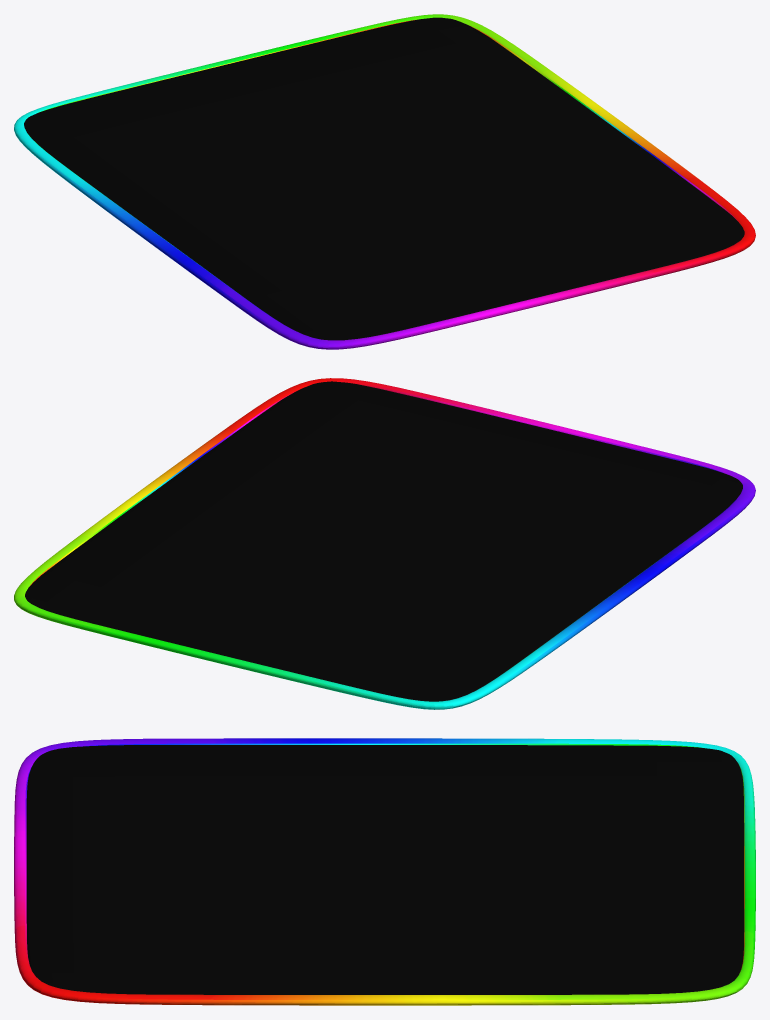
Rendered from medium_rgb_mousepad-transformed.glb.
3 renders of one model, top to bottom at view 1: azimuth 30°, elevation 25°; view 2: azimuth 150°, elevation 25°; view 3: azimuth 270°, elevation 25°, orthographic. The views are drawn at different scales.
Visible parts, largest first — view 1: Cube, Cube.001; view 2: Cube, Cube.001; view 3: Cube, Cube.001.
Part boxes in pixels (x1,y1,x2,y2): Cube: (24, 17, 744, 340); Cube.001: (14, 14, 755, 349); Cube: (25, 381, 742, 701); Cube.001: (14, 378, 755, 709); Cube: (26, 745, 744, 994); Cube.001: (14, 738, 755, 1005).
Bounding box in the file's own units: 12.51 × 0.187 × 14.87.
Materials: 2 (1 with a texture image).
